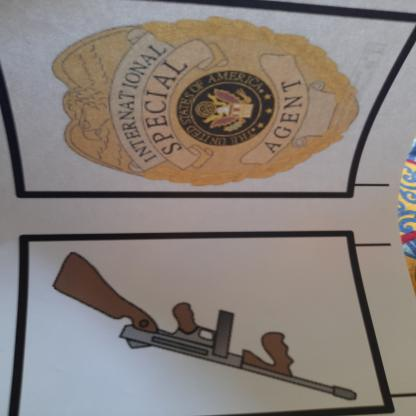Bootlegger: (39, 242, 378, 408)
G-man: (46, 6, 369, 191)
